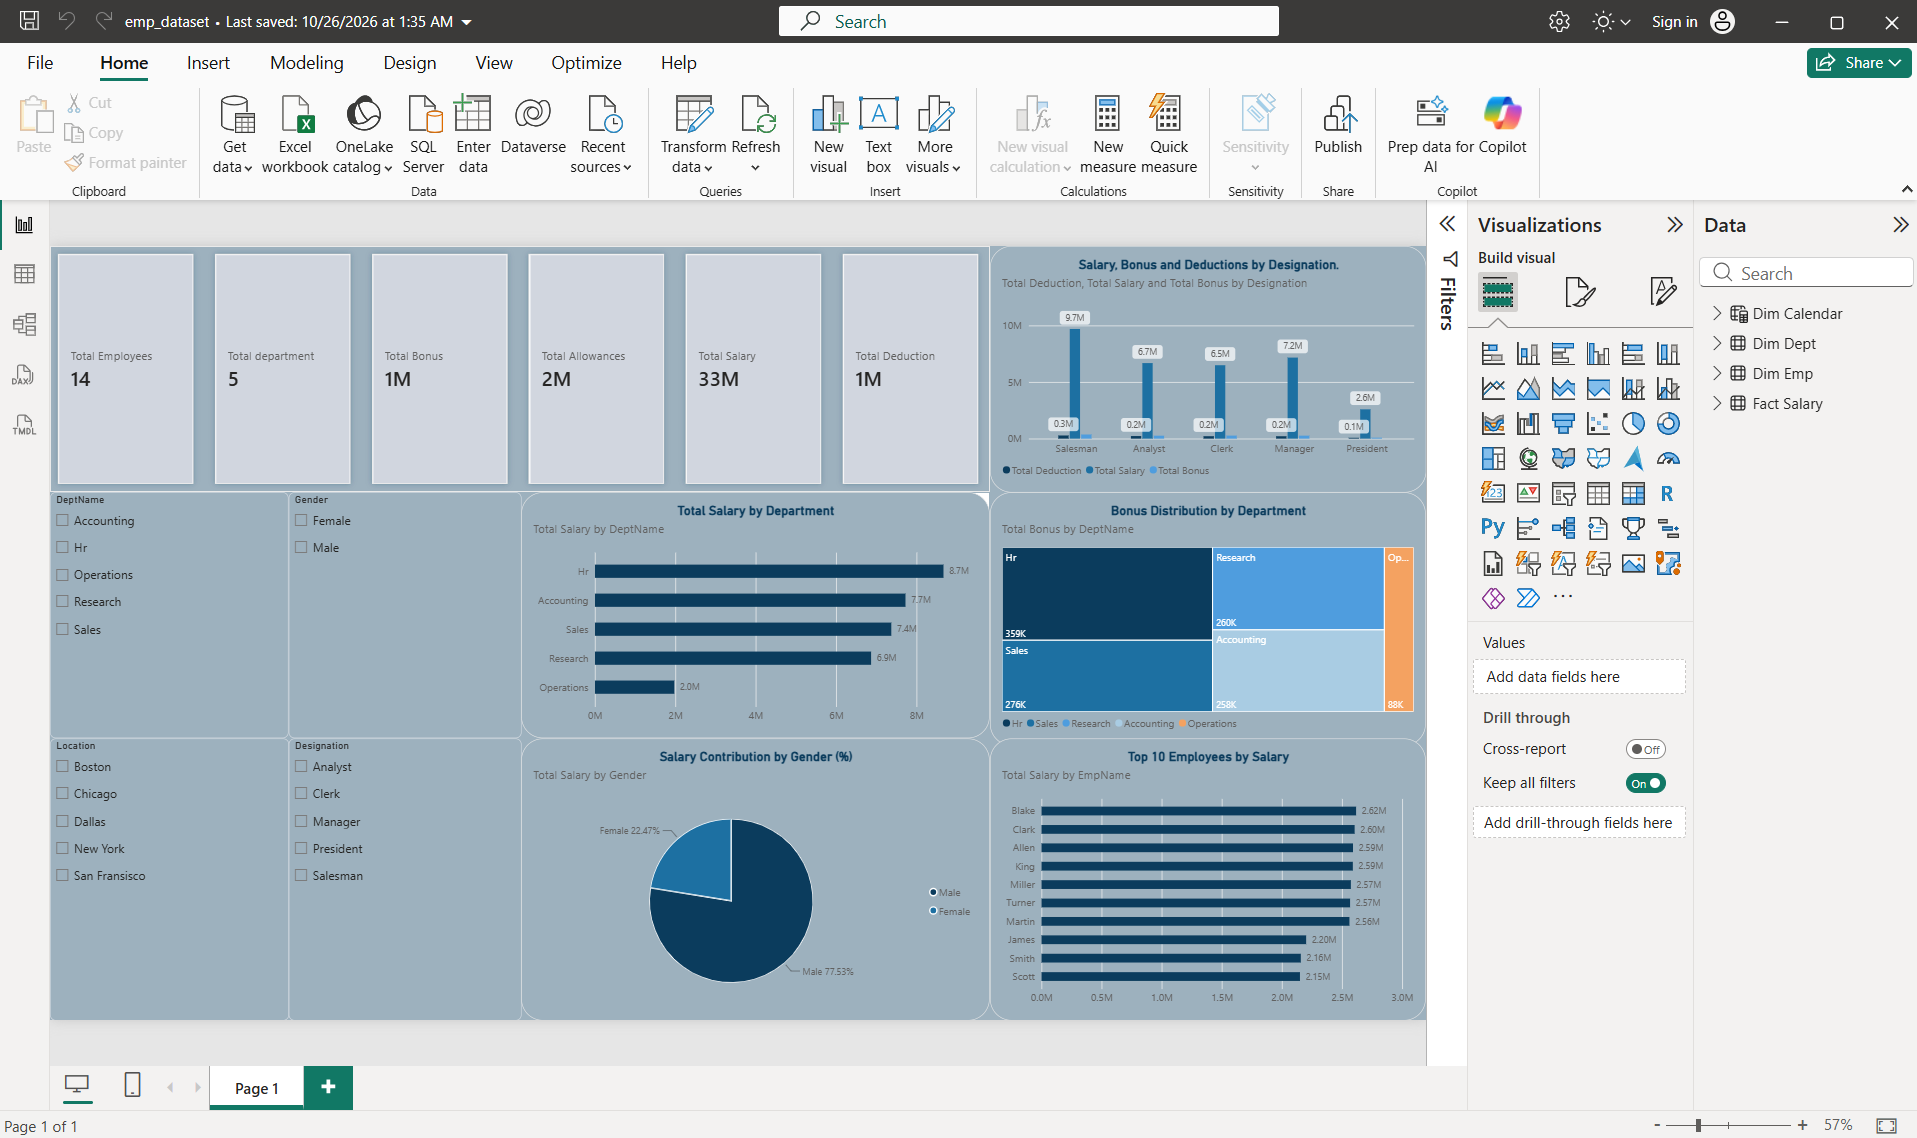

What the dashboard file says about the page in this screenshot:
{"tool":"powerbi","page":{"name":"Page 1","canvas":[1920,1080],"ordinal":0},"visuals":[{"type":"cardVisual","fields":{"Data":["Fact Salary.Total Employee","Fact Salary.Total department","Fact Salary.Total Bonus","Fact Salary.Total Allownces","Fact Salary.Total Salary","Fact Salary.Total Deduction"]},"box":[0,0,1311.7,343.3],"z":0},{"type":"slicer","fields":{"Values":["Dim Dept.DeptName"]},"box":[0,343.3,333,343],"z":1},{"type":"slicer","fields":{"Values":["Dim Emp.Gender"]},"box":[333.3,343.3,325,343.3],"z":3},{"type":"slicer","fields":{"Values":["Dim Emp.Designation"]},"box":[333.3,686.7,325,393.3],"z":4},{"type":"slicer","fields":{"Values":["Dim Dept.Location"]},"box":[0,686.7,333.3,393.3],"z":5},{"type":"barChart","title":"Total Salary by Department","fields":{"Category":["Dim Dept.DeptName"],"Y":["Fact Salary.Total Salary"]},"box":[658.3,343.3,653.3,343.3],"z":6},{"type":"pieChart","title":"Salary Contribution by Gender (%)","fields":{"Category":["Dim Emp.Gender"],"Y":["Fact Salary.Total Salary"]},"box":[658.3,686.7,653.3,393.3],"z":7},{"type":"treemap","title":"Bonus Distribution by Department","fields":{"Group":["Dim Dept.DeptName"],"Values":["Fact Salary.Total Bonus"]},"box":[1311.7,343.3,608.3,353.3],"z":8},{"type":"barChart","title":"Top 10 Employees by Salary","fields":{"Category":["Dim Emp.EmpName"],"Y":["Fact Salary.Total Salary"]},"box":[1311.7,686.7,608.3,393.3],"z":9},{"type":"lineClusteredColumnComboChart","title":"Salary, Bonus and Deductions by Designation.","fields":{"Category":["Dim Emp.Designation"],"Y":["Fact Salary.Total Deduction","Fact Salary.Total Salary","Fact Salary.Total Bonus"]},"box":[1311,0,609,344],"z":10}]}

Visuals, with their boxes on the page's 1920x1080 design canvas (x1, y1, x2, y2). These are canvas units, not pixel positions in the 1917x1138 screenshot, which may show the page scaled, cropped or inside an application window:
cardVisual - Fact Salary.Total Employee x Fact Salary.Total department: pyautogui.locateOnScreen(0, 0, 1312, 343)
slicer - Dim Dept.DeptName: pyautogui.locateOnScreen(0, 343, 333, 686)
slicer - Dim Emp.Gender: pyautogui.locateOnScreen(333, 343, 658, 687)
slicer - Dim Emp.Designation: pyautogui.locateOnScreen(333, 687, 658, 1080)
slicer - Dim Dept.Location: pyautogui.locateOnScreen(0, 687, 333, 1080)
"Total Salary by Department" barChart: pyautogui.locateOnScreen(658, 343, 1312, 687)
"Salary Contribution by Gender (%)" pieChart: pyautogui.locateOnScreen(658, 687, 1312, 1080)
"Bonus Distribution by Department" treemap: pyautogui.locateOnScreen(1312, 343, 1920, 697)
"Top 10 Employees by Salary" barChart: pyautogui.locateOnScreen(1312, 687, 1920, 1080)
"Salary, Bonus and Deductions by Designation." lineClusteredColumnComboChart: pyautogui.locateOnScreen(1311, 0, 1920, 344)
